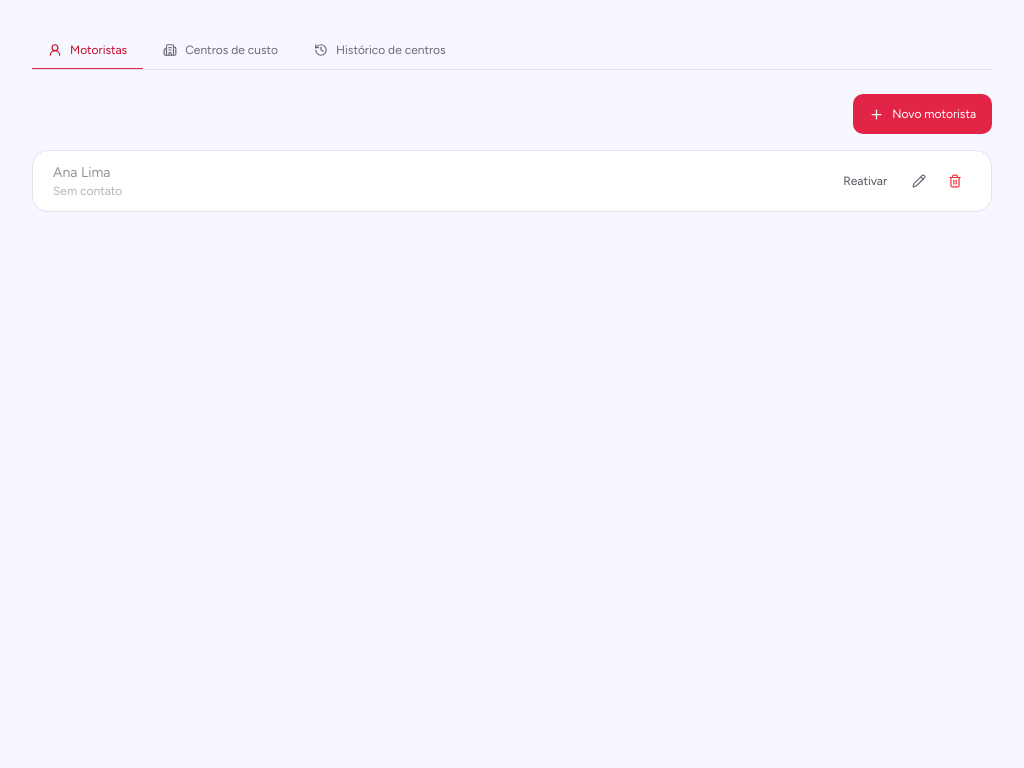
Test: Cadastros: remover com histórico vira desativar › se o motorista já está desativado, não oferece desativar de novo
The width and height of the screenshot is (1024, 768).
Click the button named "Remover Ana Lima" at (955, 181), box [939, 165, 971, 197]
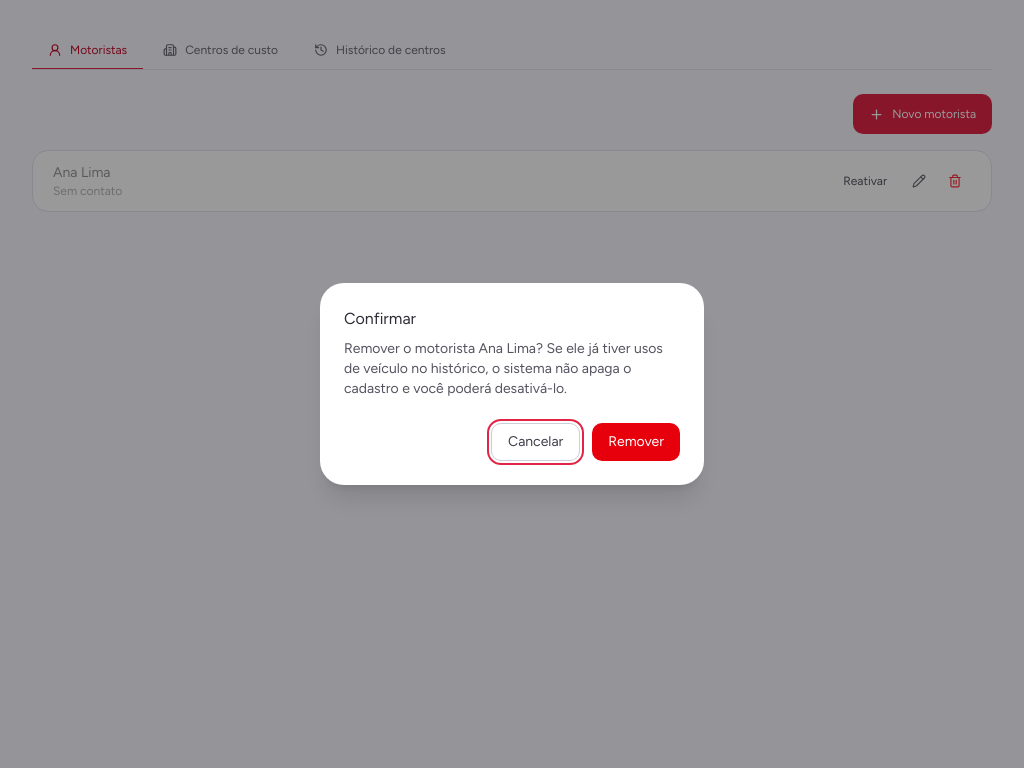
Click the button "Remover" at (636, 442), box [592, 423, 680, 461]
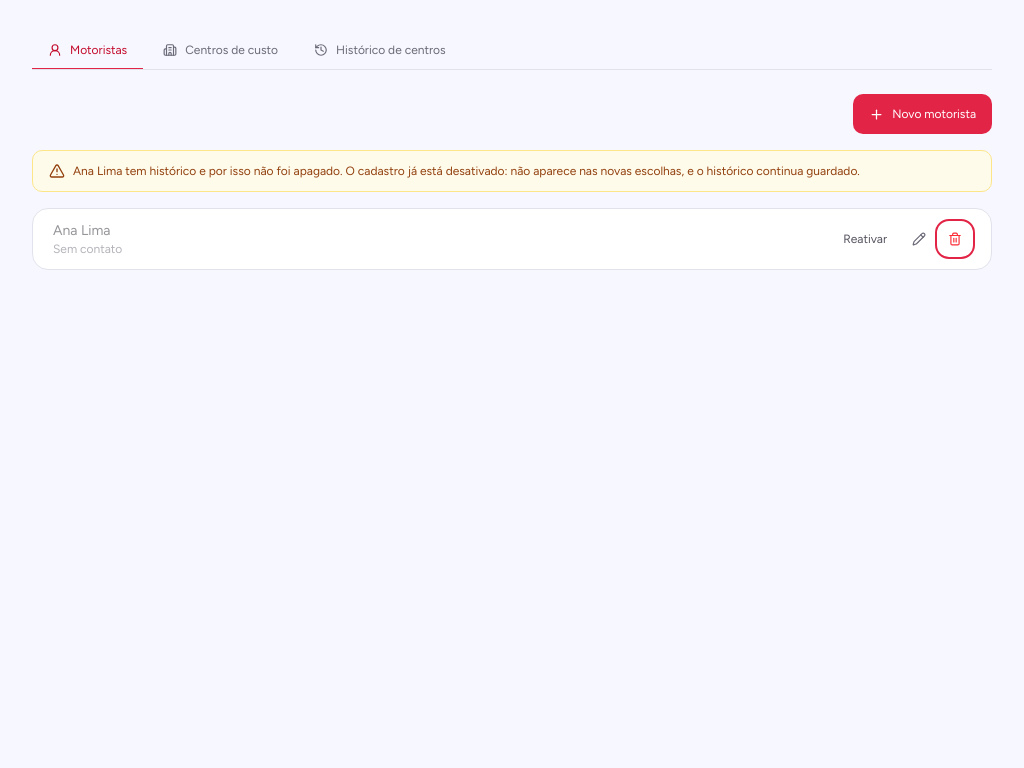
Now the text "já está desativado" is shown, box [122, 164, 860, 178]
